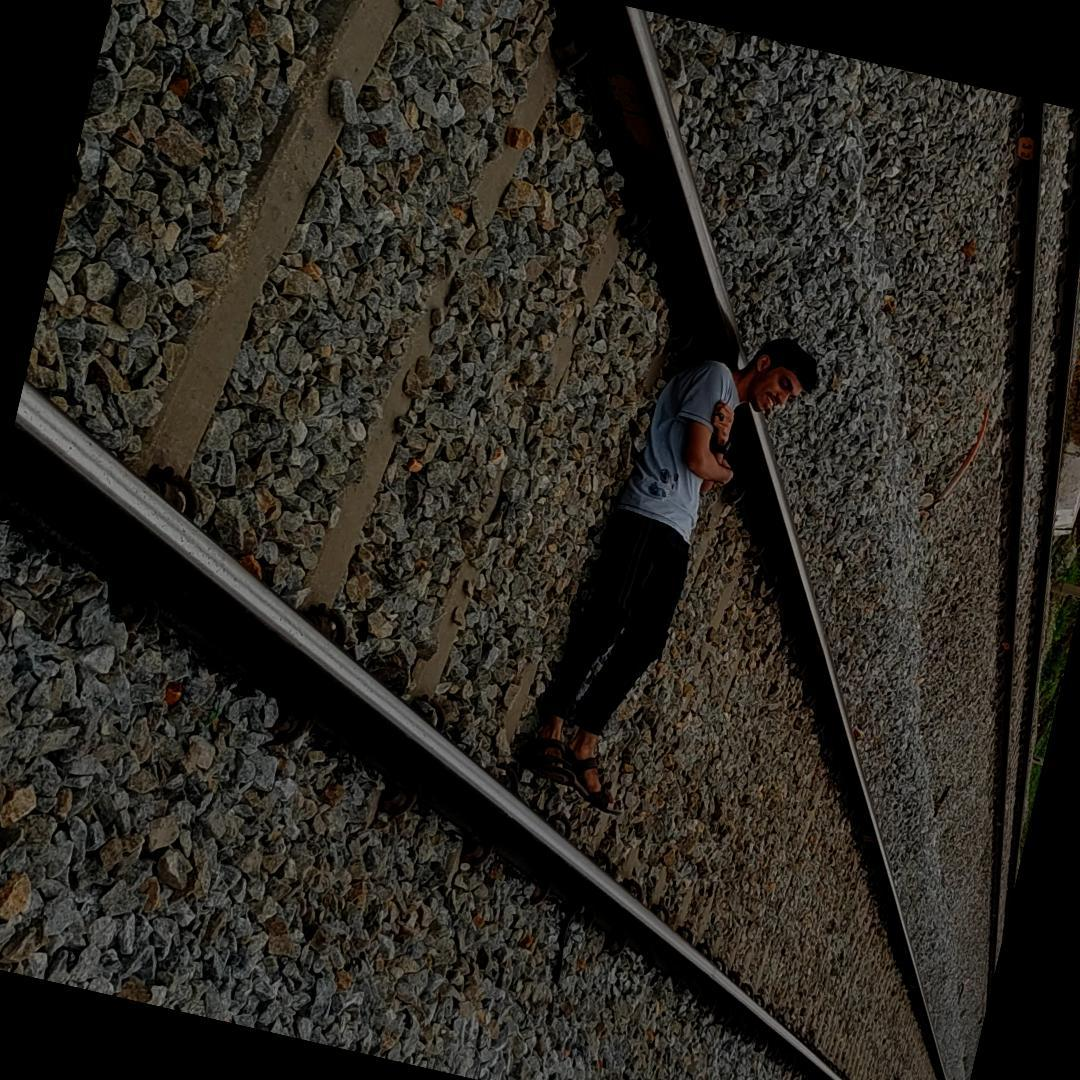sleeping: (480, 296, 870, 862)
